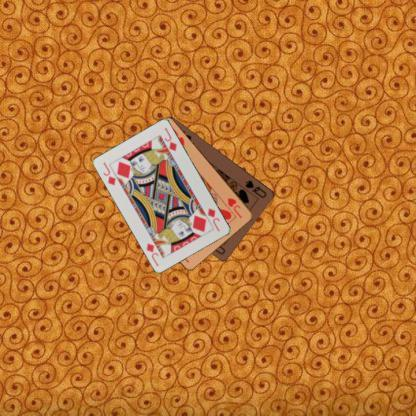Jd: (100, 160, 118, 186), (205, 206, 221, 233)
Jh: (226, 195, 244, 220)
Qs: (242, 178, 268, 200)
